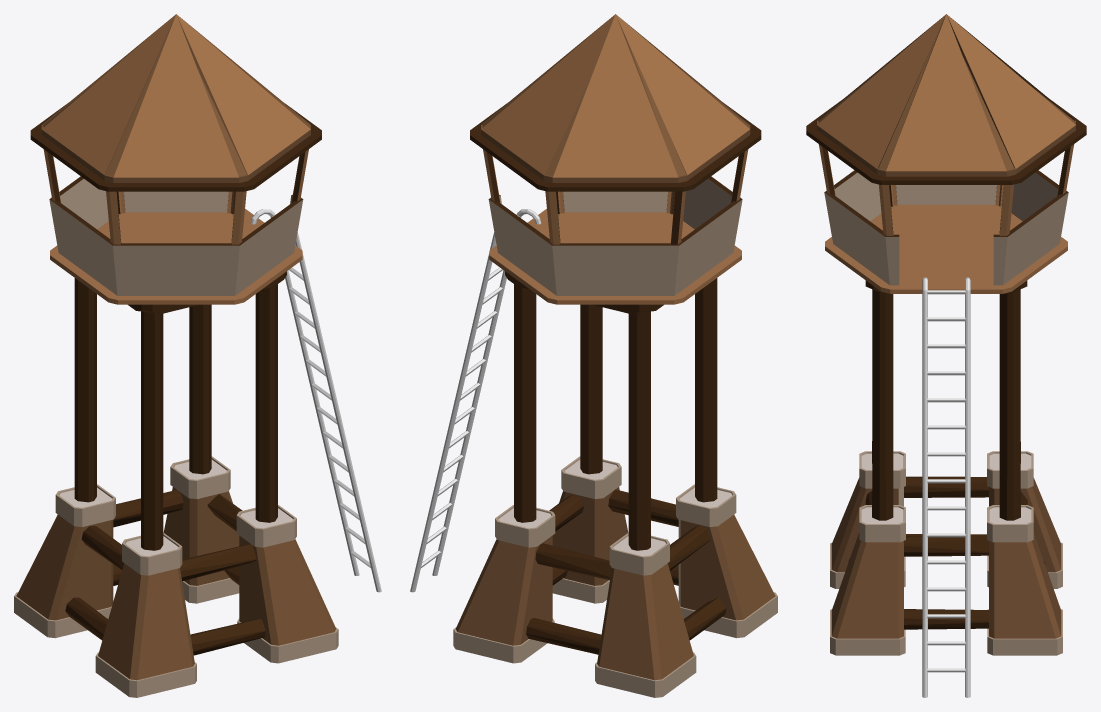
File: watch+tower02.fbx
3 renders of one model, left to right at view 1: azimuth 30°, elevation 25°; view 2: azimuth 150°, elevation 25°; view 3: azimuth 270°, elevation 25°, orthographic. The views are drawn at different scales.
Visible parts, largest first — view 1: 02; view 2: 02; view 3: 02.
Boxes of the visible parts, <box> form: 02: <box>14,14,381,697</box>; 02: <box>410,14,777,697</box>; 02: <box>806,14,1086,697</box>.
Size of the model in its own units: 990 by 1905 by 816.
